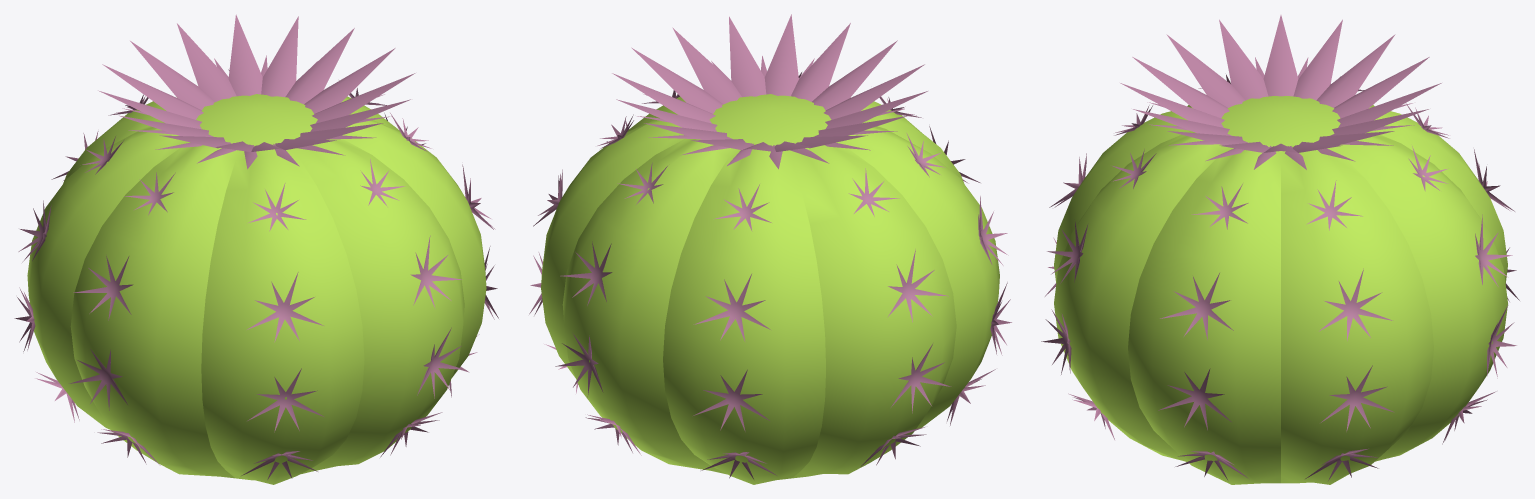
File: SM_Cactus_A.fbx
3 renders of one model, left to right at view 1: azimuth 30°, elevation 25°; view 2: azimuth 150°, elevation 25°; view 3: azimuth 270°, elevation 25°, orthographic.
Visible parts, largest first — view 1: SM_Cactus_A; view 2: SM_Cactus_A; view 3: SM_Cactus_A.
Part boxes in pixels (x1,y1,x2,y2): SM_Cactus_A: (14,14,498,484); SM_Cactus_A: (529,14,1011,484); SM_Cactus_A: (1041,15,1519,484).
Size of the model in its own units: 79.73 by 66.62 by 79.21.
